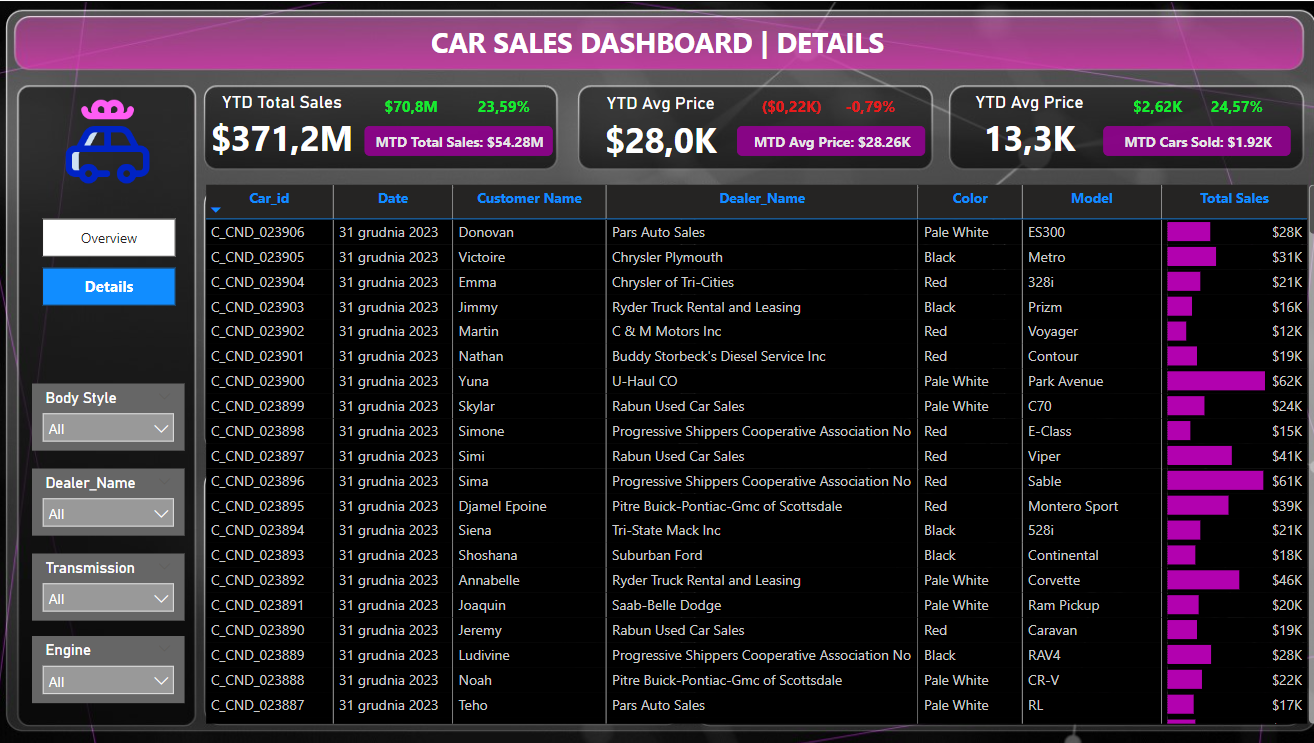

The dashboard page shown, as its layout file describes it:
{"tool":"powerbi","page":{"name":"Details","canvas":[1280,720],"ordinal":1},"visuals":[{"type":"card","title":"YTD Total Sales","fields":{"Values":["car_data.YTD Total Sales"]},"box":[173.8,86.2,202.5,72.5],"z":0},{"type":"card","fields":{"Values":["car_data.Sales Difference"]},"box":[361.2,87.5,76.2,32.5],"z":1000},{"type":"card","fields":{"Values":["car_data.YoY Sales Growth"]},"box":[451.2,87.5,76.2,32.5],"z":2000},{"type":"card","fields":{"Values":["car_data.MTD KPI"]},"box":[355,120,181.2,28.8],"z":3000},{"type":"card","title":"YTD Avg Price","fields":{"Values":["car_data.YTD Avg Price"]},"box":[538.8,87.5,202.5,72.5],"z":4000},{"type":"card","fields":{"Values":["car_data.Avg Price Diff"]},"box":[728.8,87.5,76.2,32.5],"z":5000},{"type":"card","fields":{"Values":["car_data.YoY Avg Growth"]},"box":[805,87.5,76.2,32.5],"z":6000},{"type":"card","fields":{"Values":["car_data.MTD Avg Price KPI"]},"box":[713.8,120,181.2,28.8],"z":7000},{"type":"card","fields":{"Values":["car_data.Cars Sold Diff"]},"box":[1081.2,87.5,76.2,32.5],"z":8000},{"type":"card","fields":{"Values":["car_data.YoY Cars Sold"]},"box":[1157.8,88,77.2,32.6],"z":9000},{"type":"card","title":"YTD Avg Price","fields":{"Values":["car_data.YTD Cars Sold"]},"box":[895,86.2,202.5,72.5],"z":10000},{"type":"card","fields":{"Values":["car_data.MTD Car Sold KPI"]},"box":[1067.3,120.6,180.9,28.9],"z":11000},{"type":"slicer","fields":{"Values":["car_data.Body Style"]},"box":[33.8,369,147.1,65.1],"z":12000},{"type":"slicer","fields":{"Values":["car_data.Dealer_Name"]},"box":[33.8,451.1,147.1,65.1],"z":13000},{"type":"slicer","fields":{"Values":["car_data.Transmission"]},"box":[33.8,533.1,147.1,65.1],"z":14000},{"type":"slicer","fields":{"Values":["car_data.Engine"]},"box":[33.8,612.7,147.1,65.1],"z":15000},{"type":"textbox","box":[413.7,16.9,495.7,50.7],"z":16000},{"type":"tableEx","fields":{"Values":["car_data.Car_id","car_data.Date","car_data.Customer Name","car_data.Dealer_Name","car_data.Color","car_data.Model","car_data.Price ($)"]},"box":[195.4,172.5,1084.2,529.4],"z":17000},{"type":"pageNavigator","box":[43.4,209.8,129,84.4],"z":18000},{"type":"image","box":[61.5,88,90.5,95.3],"z":18001}]}

Visuals, with their boxes in screenshot pixels (x1, y1, x2, y2), scaled from the page's 1280x720 canvas onto the 1314x743 screenshot:
"YTD Total Sales" card: l=178, t=89, r=386, b=164
card - car_data.Sales Difference: l=371, t=90, r=449, b=124
card - car_data.YoY Sales Growth: l=463, t=90, r=541, b=124
card - car_data.MTD KPI: l=364, t=124, r=550, b=154
"YTD Avg Price" card: l=553, t=90, r=761, b=165
card - car_data.Avg Price Diff: l=748, t=90, r=826, b=124
card - car_data.YoY Avg Growth: l=826, t=90, r=905, b=124
card - car_data.MTD Avg Price KPI: l=733, t=124, r=919, b=154
card - car_data.Cars Sold Diff: l=1110, t=90, r=1188, b=124
card - car_data.YoY Cars Sold: l=1189, t=91, r=1268, b=124
"YTD Avg Price" card: l=919, t=89, r=1127, b=164
card - car_data.MTD Car Sold KPI: l=1096, t=124, r=1281, b=154
slicer - car_data.Body Style: l=35, t=381, r=186, b=448
slicer - car_data.Dealer_Name: l=35, t=466, r=186, b=533
slicer - car_data.Transmission: l=35, t=550, r=186, b=617
slicer - car_data.Engine: l=35, t=632, r=186, b=699
textbox: l=425, t=17, r=934, b=70
tableEx - car_data.Car_id x car_data.Date: l=201, t=178, r=1313, b=724
pageNavigator: l=45, t=217, r=177, b=304
image: l=63, t=91, r=156, b=189
